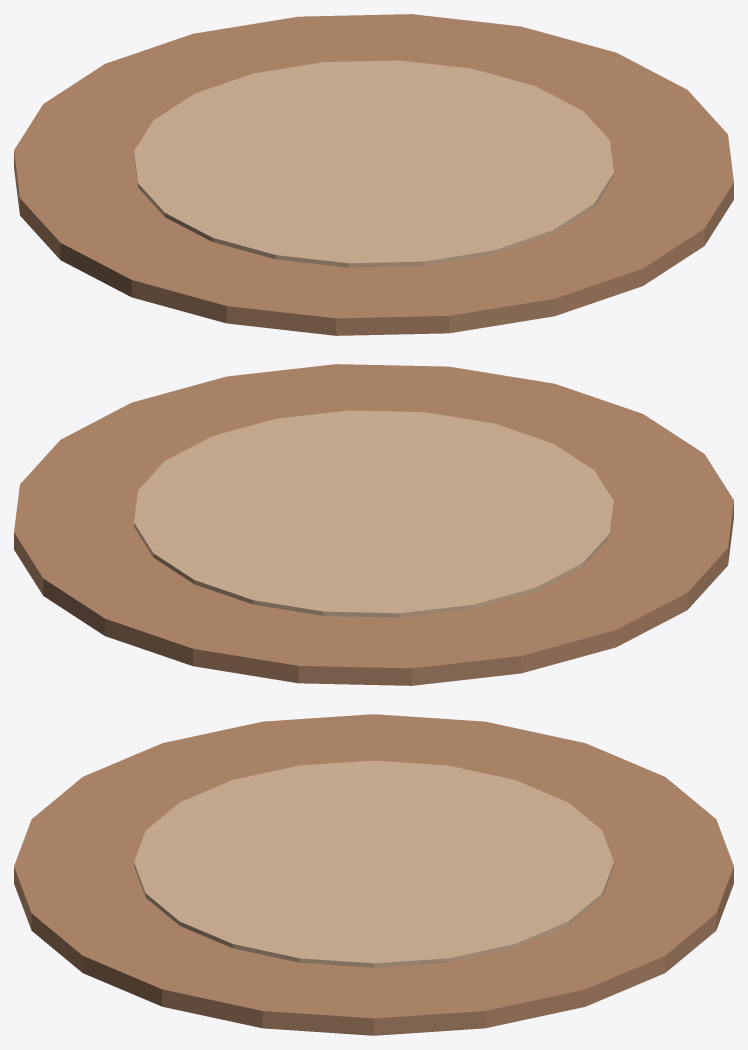
File: paver.fbx
3 views of the same model, one above another, from view 1: azimuth 30°, elevation 25°; view 2: azimuth 150°, elevation 25°; view 3: azimuth 270°, elevation 25° (orthographic).
Parts seen in each view (by area): view 1: paver; view 2: paver; view 3: paver.
Part boxes in pixels (box(x1,y1,x2,y2)): paver: box(14, 14, 733, 335); paver: box(14, 364, 733, 685); paver: box(14, 714, 733, 1035).
Size of the model in its own units: 1.5 by 0.05 by 1.5.
